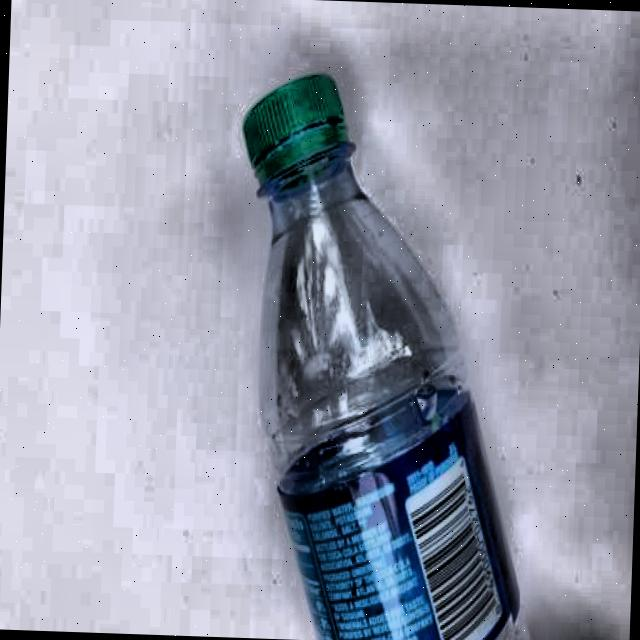plastic: (215, 67, 551, 640)
